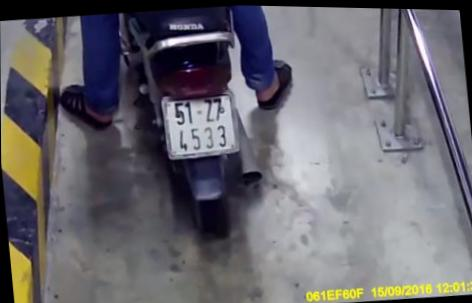LP: (160, 84, 242, 160)
